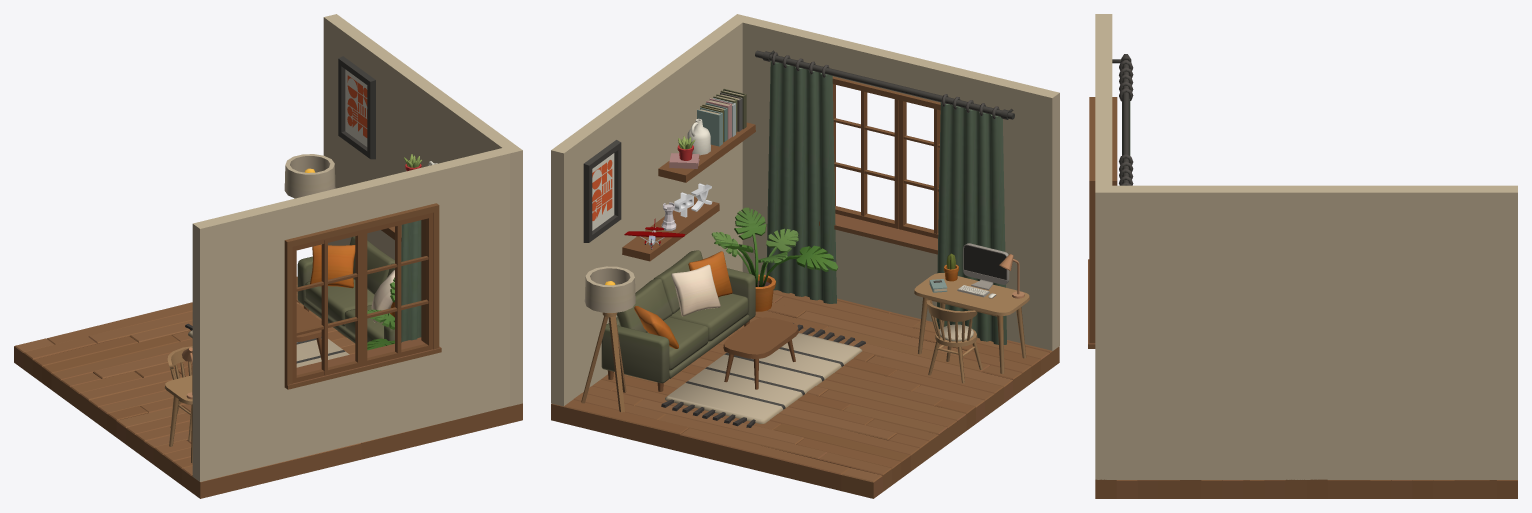
3 renders of one model, left to right at view 1: azimuth 30°, elevation 25°; view 2: azimuth 150°, elevation 25°; view 3: azimuth 270°, elevation 25°, orthographic. The views are drawn at different scales.
Visible parts, largest first — view 1: Wall_For_Window, Floor, Wall, Window, Sofa, Poster, Curtains, Lamp, Table, Rug, Coffee_Table, Chair (+1 smaller); view 2: Floor, Wall_For_Window, Wall, Curtains, Sofa, Rug, Window, Plant, Lamp, Table, Poster, Shelf (×2) (+6 smaller); view 3: Wall, Floor, Wall_For_Window, Window, Curtains.
Boxes of the visible parts, x1,y1,x2,y2 form: Wall_For_Window: [192, 147, 519, 481]; Floor: [14, 276, 522, 498]; Wall: [323, 14, 522, 406]; Window: [284, 203, 441, 389]; Sofa: [297, 236, 394, 343]; Poster: [338, 56, 375, 159]; Curtains: [401, 220, 421, 342]; Lamp: [284, 154, 335, 198]; Table: [164, 375, 192, 463]; Rug: [185, 323, 349, 367]; Coffee_Table: [296, 304, 321, 359]; Chair: [167, 346, 192, 441]; Floor: [551, 290, 1059, 498]; Wall_For_Window: [731, 14, 1059, 351]; Wall: [551, 14, 749, 406]; Curtains: [755, 50, 1014, 344]; Sofa: [601, 250, 755, 391]; Rug: [661, 323, 865, 427]; Window: [819, 76, 940, 254]; Plant: [711, 207, 838, 311]; Lamp: [581, 266, 635, 412]; Table: [914, 273, 1029, 373]; Poster: [583, 140, 621, 242]; Shelf (×2): [622, 122, 755, 261]; Wall: [1095, 185, 1517, 479]; Floor: [1095, 479, 1517, 498]; Wall_For_Window: [1095, 14, 1112, 192]; Window: [1088, 97, 1117, 348]; Curtains: [1112, 54, 1133, 185].
Size of what is drawn, in the model's own units: 4 by 3.2 by 4.07.
7 materials, 6 textured.
